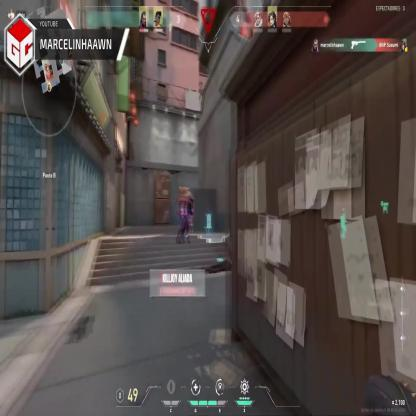enemy: (177, 185, 186, 239), (186, 190, 194, 226)
enemy_head: (180, 186, 184, 196), (186, 187, 191, 195)
